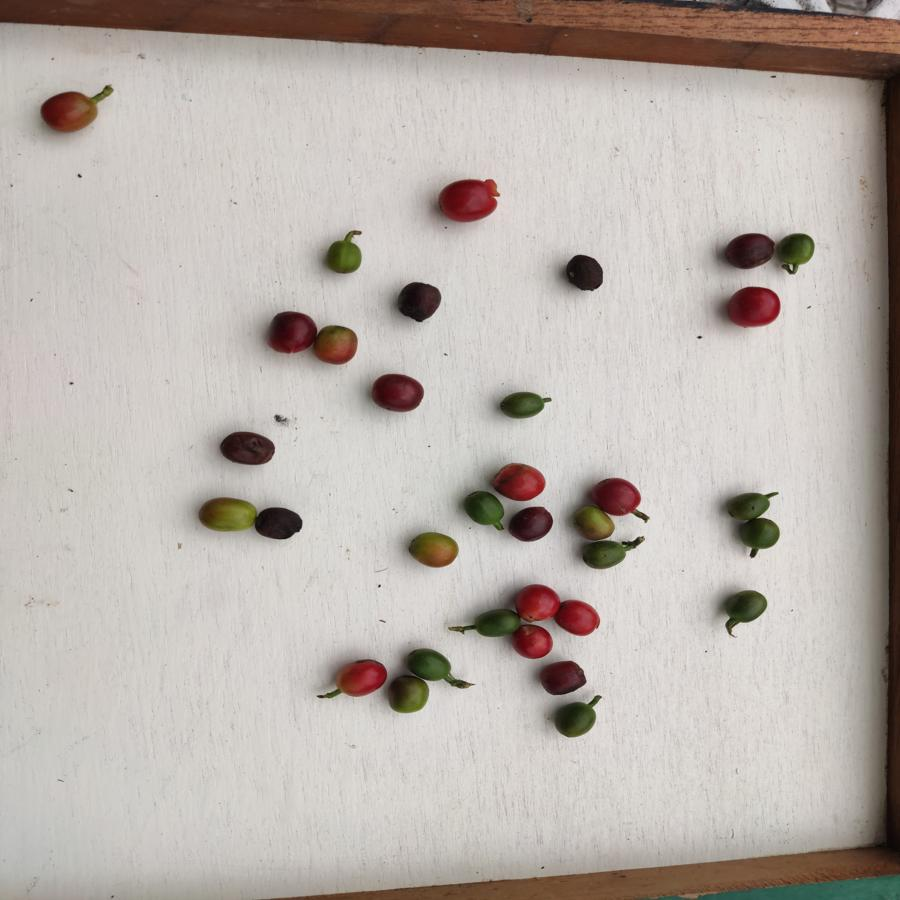Inmaduro: (580, 539, 634, 572), (723, 590, 772, 625), (775, 231, 818, 269), (555, 701, 599, 738), (406, 648, 452, 683), (463, 490, 505, 528), (497, 391, 550, 421), (325, 238, 364, 277), (727, 490, 771, 520), (738, 518, 780, 549), (474, 609, 518, 638)
Maduro: (435, 177, 499, 225), (721, 285, 780, 330), (491, 460, 549, 500), (335, 656, 388, 699), (558, 595, 602, 641), (515, 581, 560, 625), (513, 622, 555, 660)
Pinton: (37, 86, 103, 135), (196, 496, 256, 533), (318, 322, 360, 369), (411, 531, 459, 571), (388, 676, 436, 715), (573, 506, 614, 538)
Sobremaduro: (369, 370, 426, 415), (722, 229, 776, 272), (267, 309, 316, 356), (220, 428, 277, 468), (588, 477, 642, 515), (398, 281, 442, 326), (253, 505, 306, 541), (509, 505, 553, 547), (538, 660, 586, 695), (565, 255, 605, 291)
